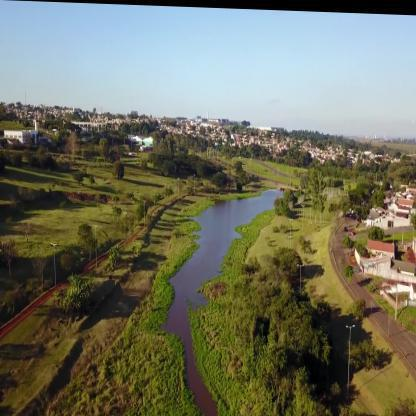agua: (169, 242, 213, 410), (207, 199, 240, 258)
